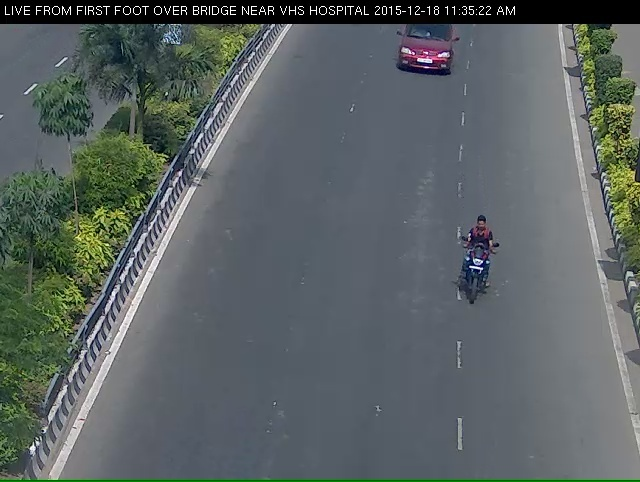Car: (391, 24, 465, 87)
Person: (453, 234, 509, 335)
